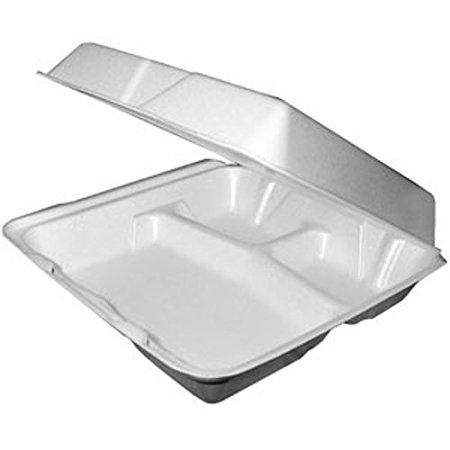styrofoam: (2, 40, 445, 407)
